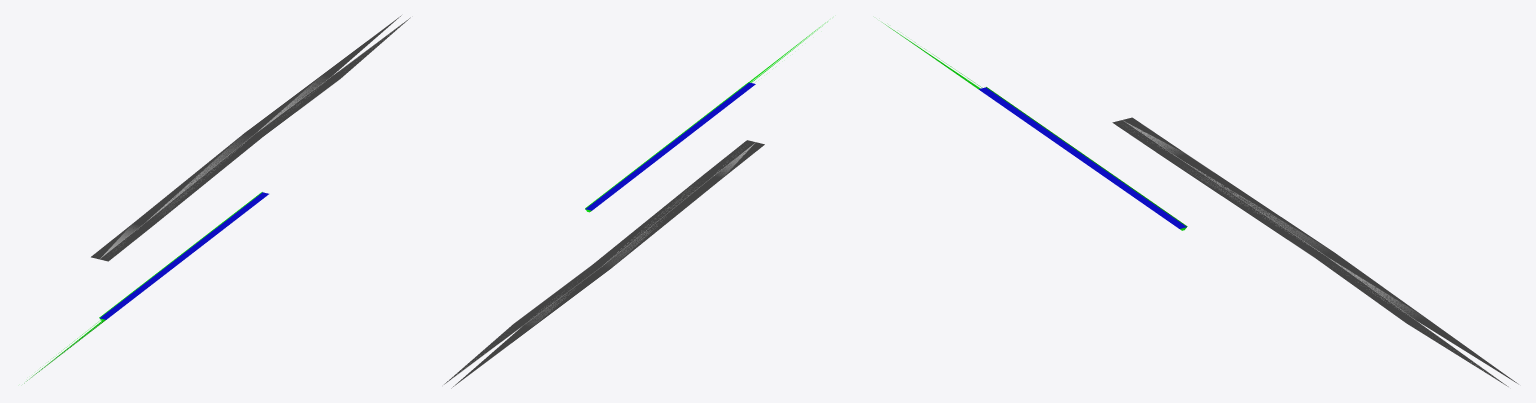
3 views of the same model, side by side, from view 1: azimuth 30°, elevation 25°; view 2: azimuth 210°, elevation 25°; view 3: azimuth 270°, elevation 25° (orthographic). The views are drawn at different scales.
Bounding box in the file's own units: 268 × 1 × 196.
